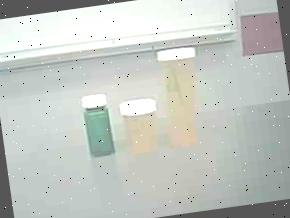Bottle A: (153, 39, 218, 156)
Bottle B: (117, 94, 164, 157)
Bottle C: (76, 86, 120, 162)
